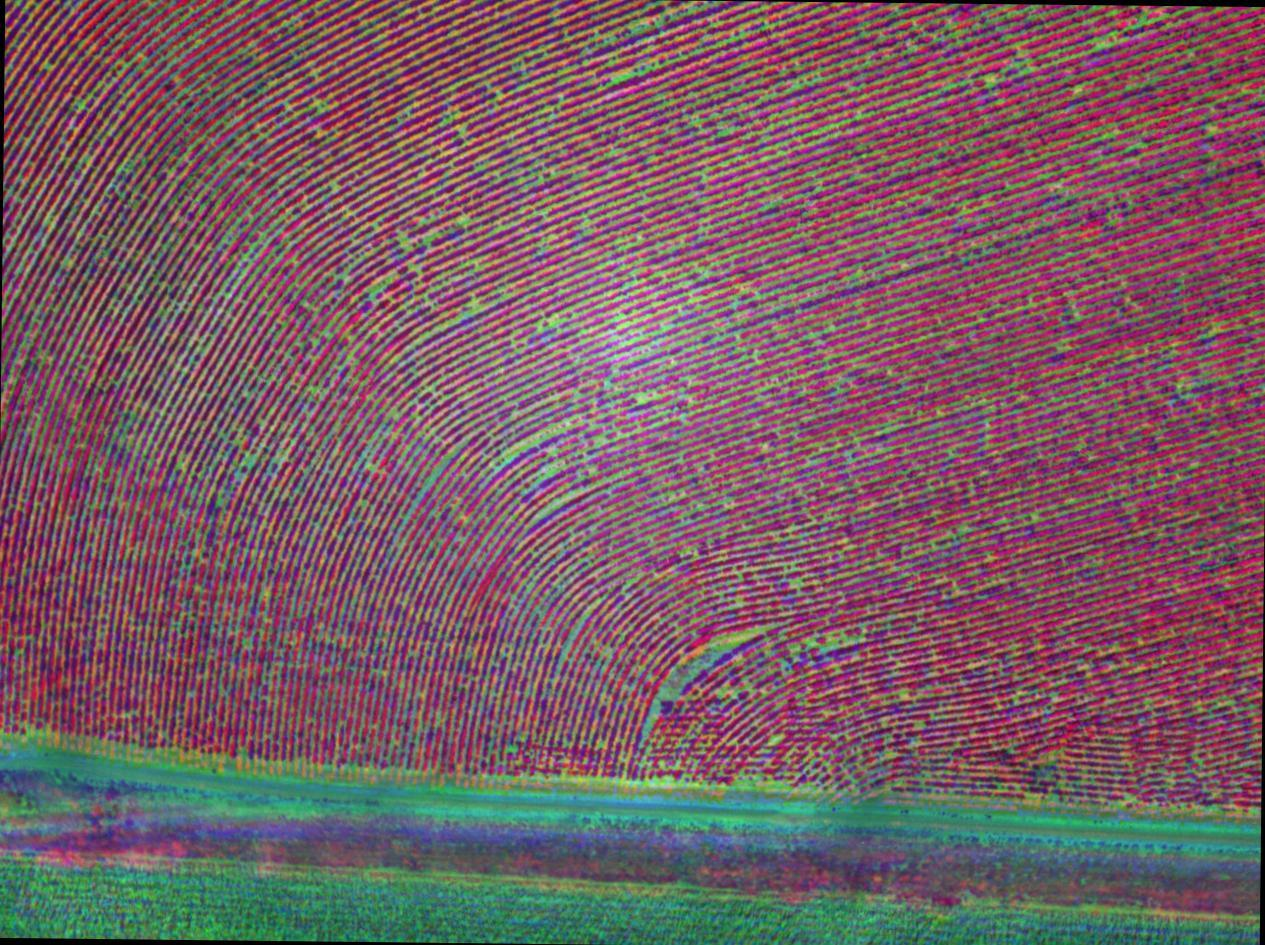dc: (353, 228, 505, 350), (93, 98, 223, 236), (121, 305, 234, 459), (651, 610, 762, 735), (546, 18, 684, 109), (486, 395, 593, 508)
